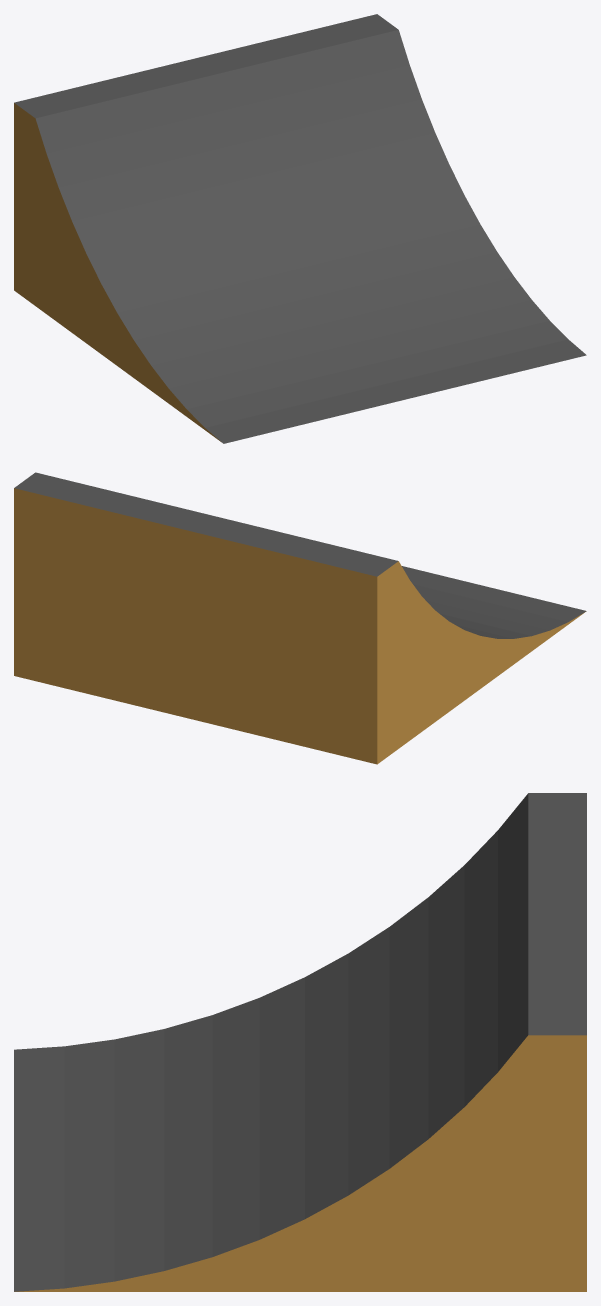
File: Skate_Bowl_Side_01.FBX
The picture shows the model from 3 angles, top to bottom: view 1: azimuth 30°, elevation 25°; view 2: azimuth 150°, elevation 25°; view 3: azimuth 270°, elevation 25°; orthographic projection. The views are drawn at different scales.
Parts seen in each view (by area): view 1: Skate_Bowl_Side_01; view 2: Skate_Bowl_Side_01; view 3: Skate_Bowl_Side_01.
Boxes of the visible parts, x1,y1,x2,y2 form: Skate_Bowl_Side_01: [14, 14, 586, 443]; Skate_Bowl_Side_01: [14, 472, 586, 764]; Skate_Bowl_Side_01: [14, 793, 586, 1291].
Bounding box in the file's own units: 3000 × 1482 × 3000.
